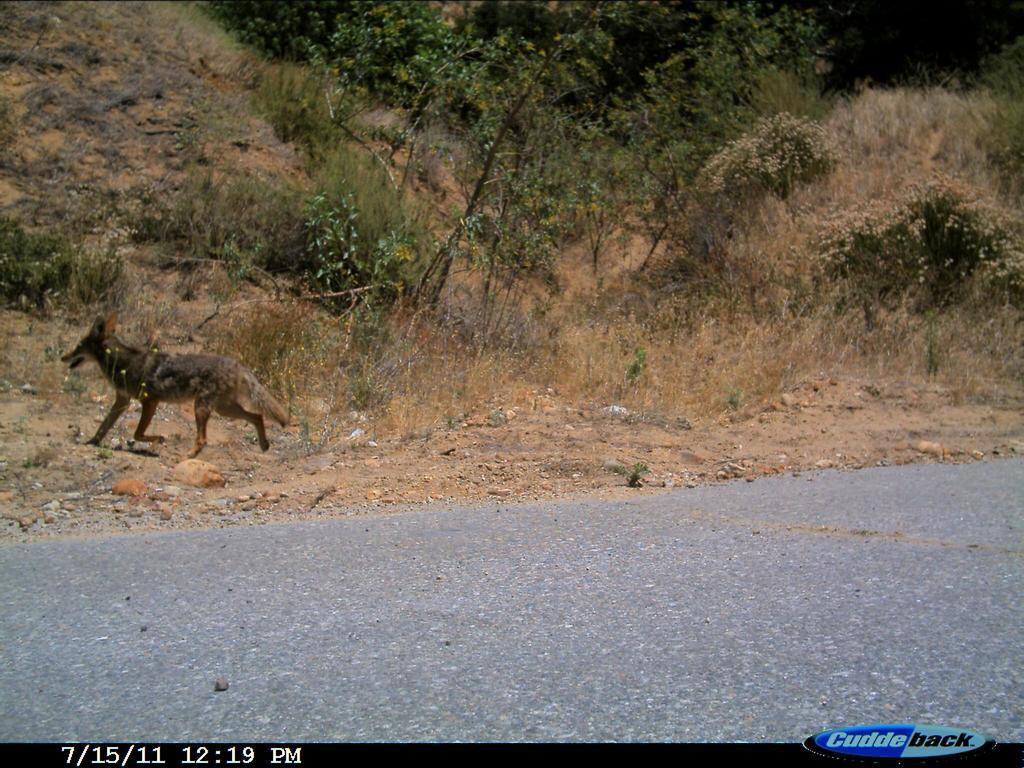coyote: (52, 309, 294, 469)
